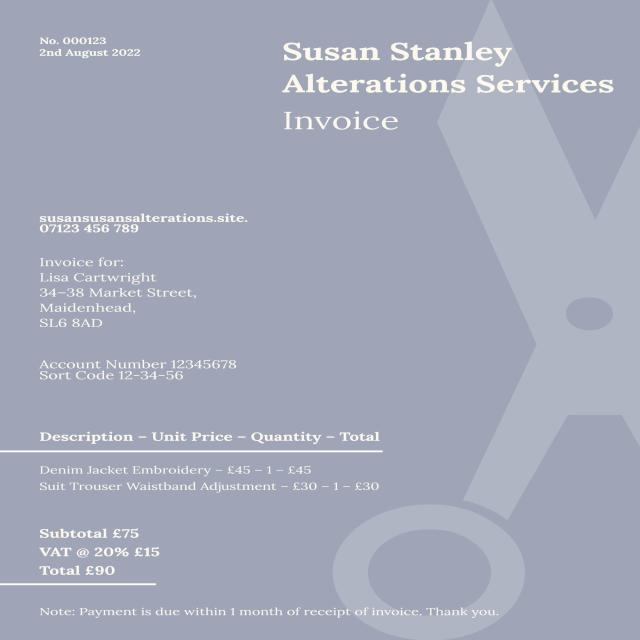ROI: (29, 421, 414, 508), (261, 34, 622, 100), (31, 256, 211, 337), (36, 596, 509, 625), (24, 516, 167, 585), (37, 207, 253, 244), (34, 351, 246, 388), (277, 106, 418, 150), (27, 27, 156, 72)
